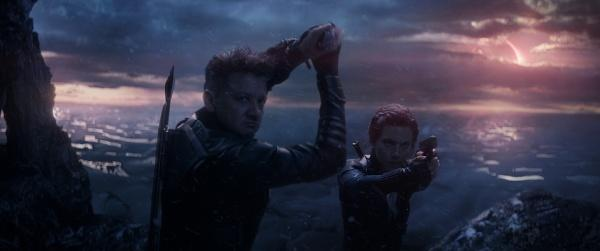Gun: (419, 134, 439, 159)
